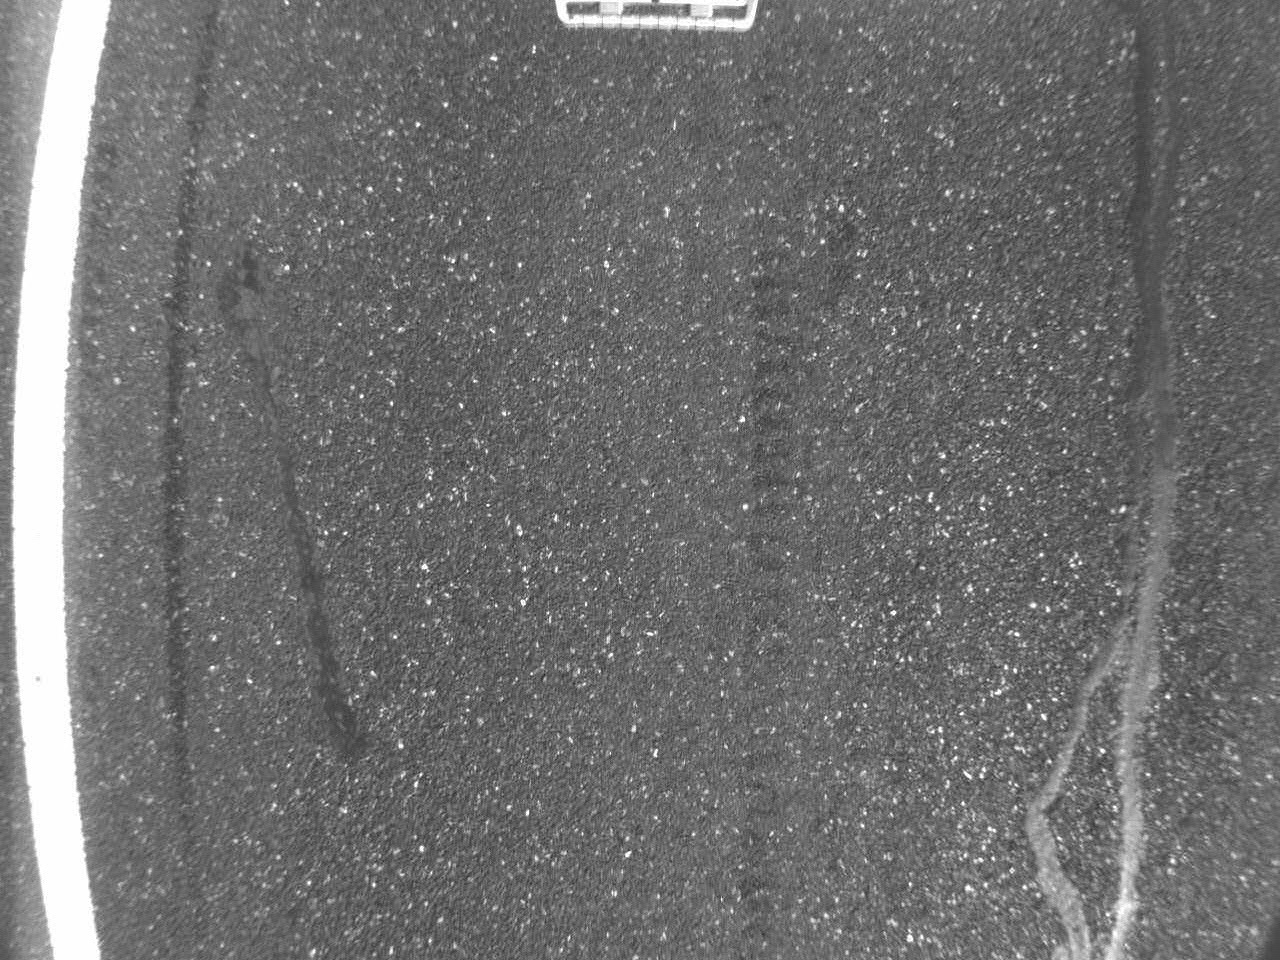sealed: (1035, 32, 1196, 960)
